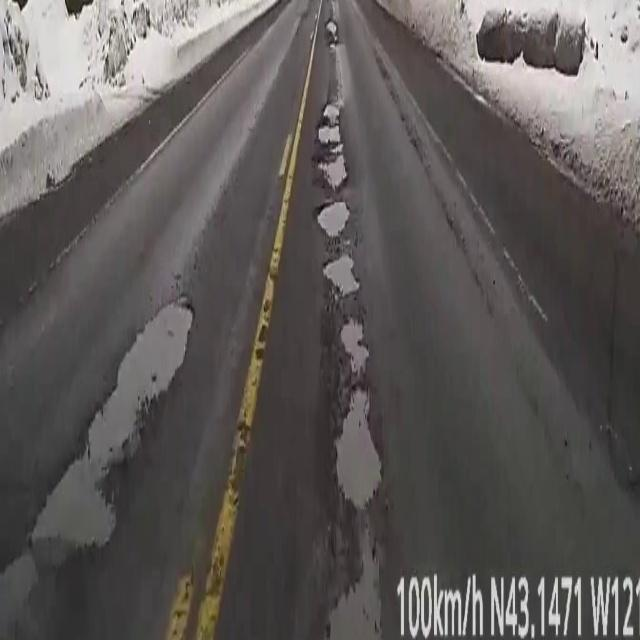pothole: (0, 290, 199, 565), (336, 321, 380, 509), (318, 538, 388, 640), (318, 104, 347, 196), (323, 255, 358, 293), (318, 202, 348, 234), (326, 18, 336, 38)
